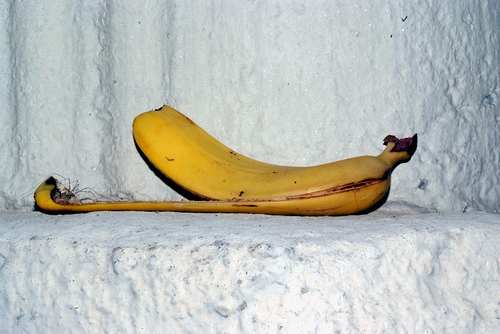litter: (34, 101, 417, 215)
